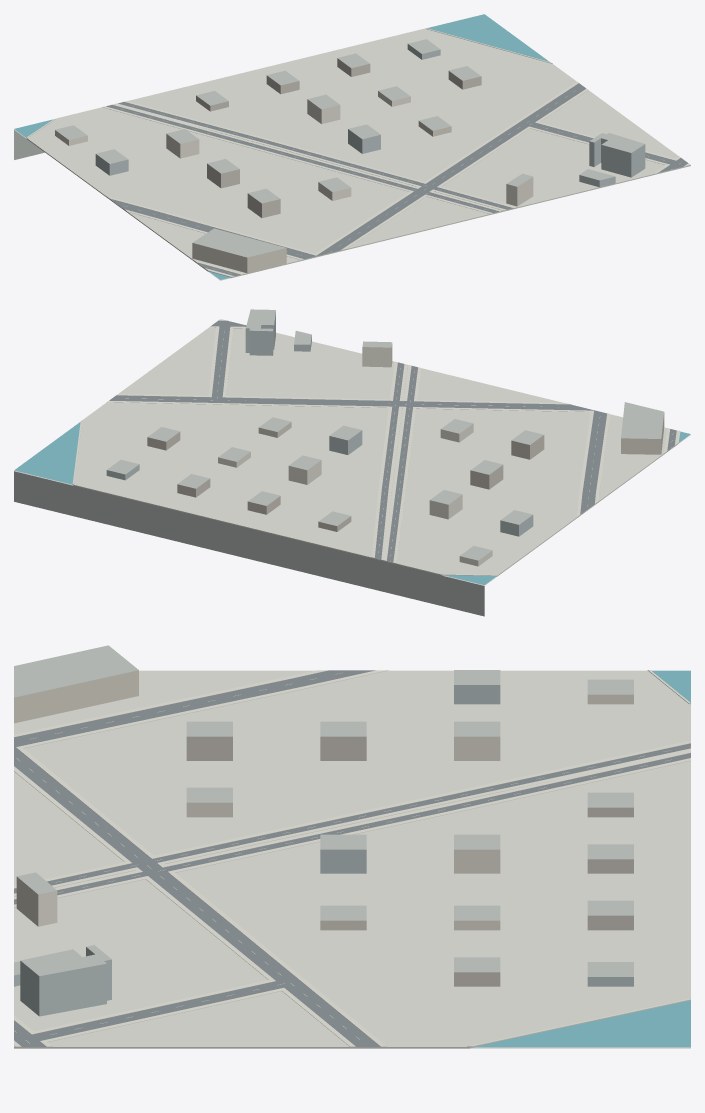
3 views of the same model, one above another, from view 1: azimuth 30°, elevation 25°; view 2: azimuth 150°, elevation 25°; view 3: azimuth 270°, elevation 25° (orthographic). The views are drawn at different scales.
Parts seen in each view (by area): view 1: city; view 2: city; view 3: city.
Part boxes in pixels (left/top/right/bottom): city: left=14, top=14, right=690, bottom=280; city: left=14, top=309, right=690, bottom=616; city: left=14, top=645, right=690, bottom=1048.
Size of the model in its own units: 500 by 57 by 380.
